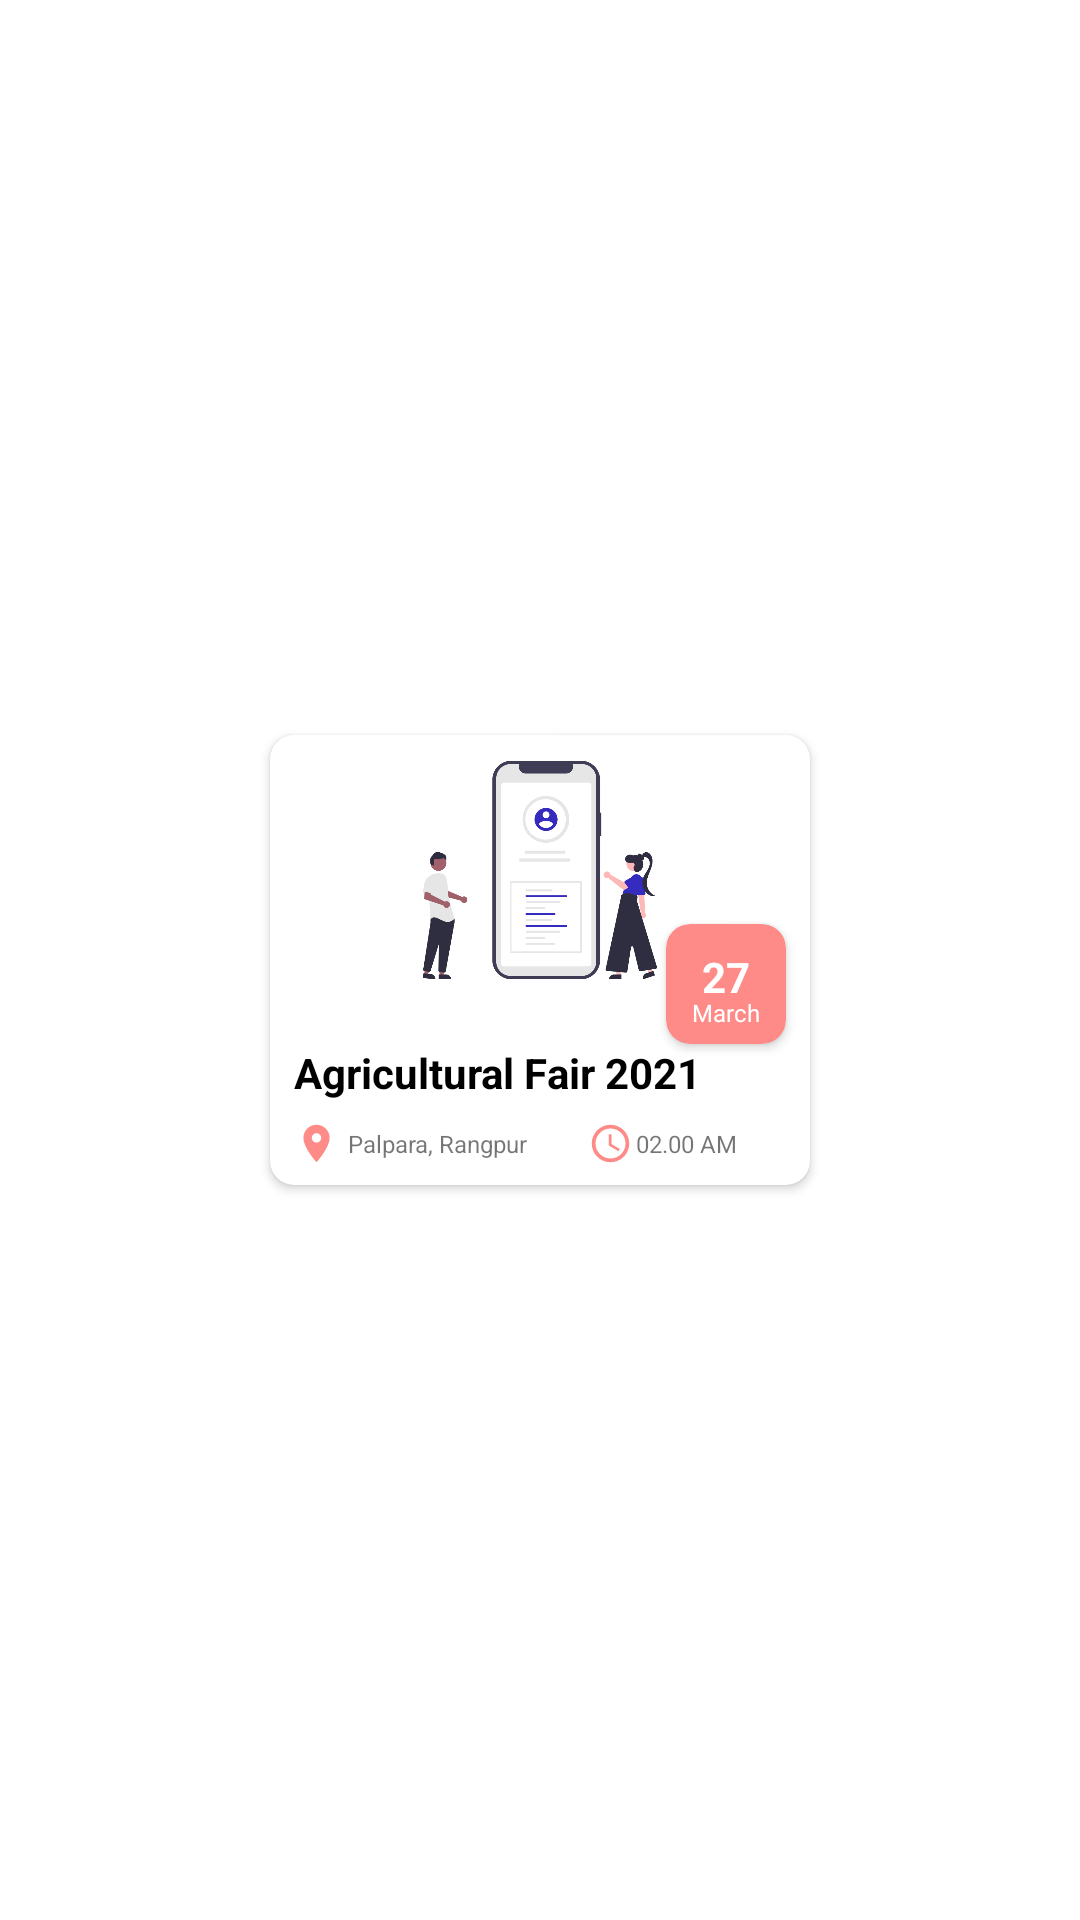

Where icons sit on this 1080*1920 app screen, as bbox=[x1, y1, x2, y2]:
access time: bbox=[591, 1124, 630, 1163]
location on: bbox=[303, 1124, 330, 1162]
